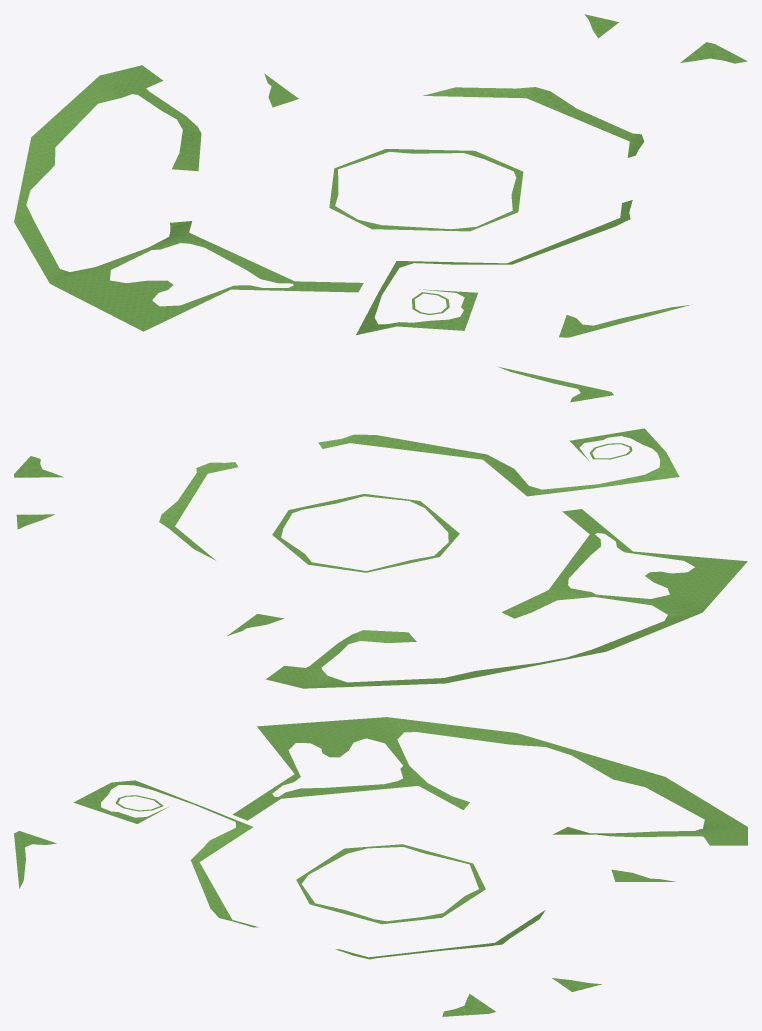
File: kd_stage_1364a3_13_16_bounded.glb
The picture shows the model from 3 angles, top to bottom: view 1: azimuth 30°, elevation 25°; view 2: azimuth 150°, elevation 25°; view 3: azimuth 270°, elevation 25°; orthographic projection. The views are drawn at different scales.
Parts seen in each view (by area): view 1: kd_stage_1364a3_13_16_bounded; view 2: kd_stage_1364a3_13_16_bounded; view 3: kd_stage_1364a3_13_16_bounded.
Part boxes in pixels (left/top/right/bottom): kd_stage_1364a3_13_16_bounded: left=14, top=14, right=747, bottom=337; kd_stage_1364a3_13_16_bounded: left=14, top=366, right=747, bottom=688; kd_stage_1364a3_13_16_bounded: left=14, top=717, right=747, bottom=1016.
Size of the model in its own units: 44.25 by 2.06 by 42.94.
Materials: 1 (1 with a texture image).
